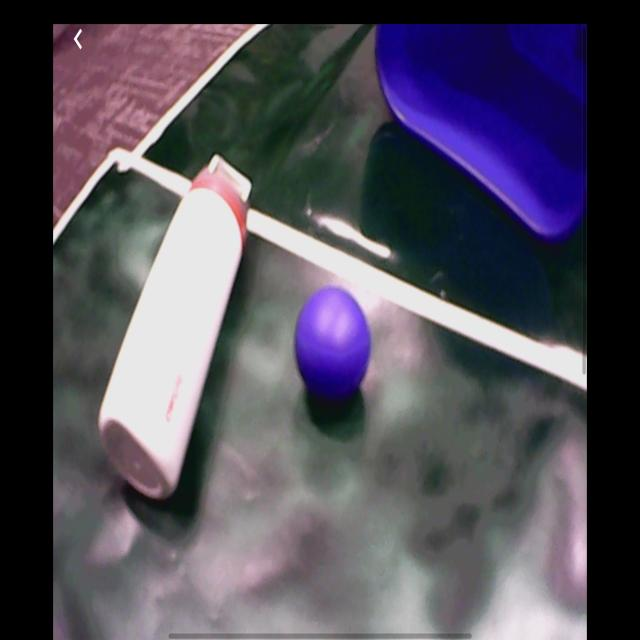ball: (294, 286, 370, 404)
